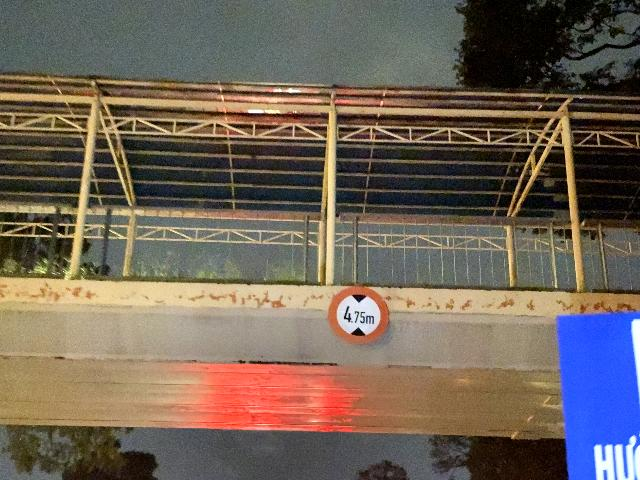han-che-chieu-cao: (328, 285, 390, 344)
